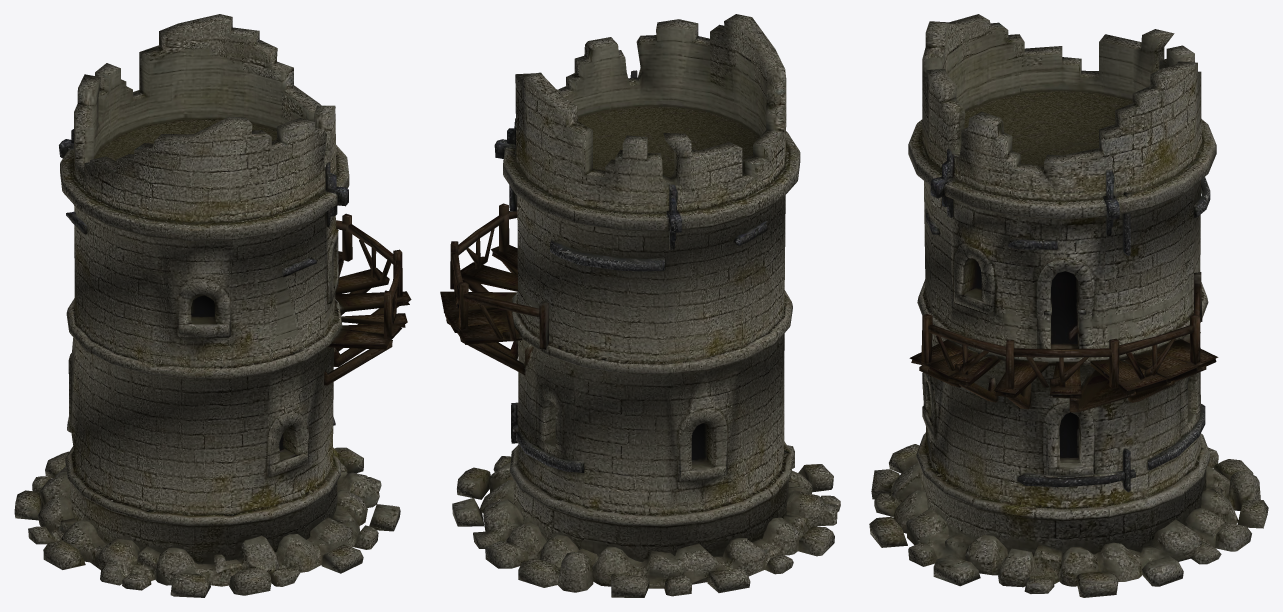
File: tripo_convert_95c5d6b5-4646-4cfc-80e0-1f29d6dfeba0.fbx
3 renders of one model, left to right at view 1: azimuth 30°, elevation 25°; view 2: azimuth 150°, elevation 25°; view 3: azimuth 270°, elevation 25°, orthographic. The views are drawn at different scales.
Parts seen in each view (by area): view 1: tripo_node_95c5d6b5; view 2: tripo_node_95c5d6b5; view 3: tripo_node_95c5d6b5.
Boxes of the visible parts, box(x1,y1,x2,y2) form: tripo_node_95c5d6b5: box(14, 14, 411, 597); tripo_node_95c5d6b5: box(440, 14, 840, 597); tripo_node_95c5d6b5: box(869, 14, 1268, 597).
Bounding box in the file's own units: 0.8027 × 0.998 × 0.7637.
1 material, 1 textured.
